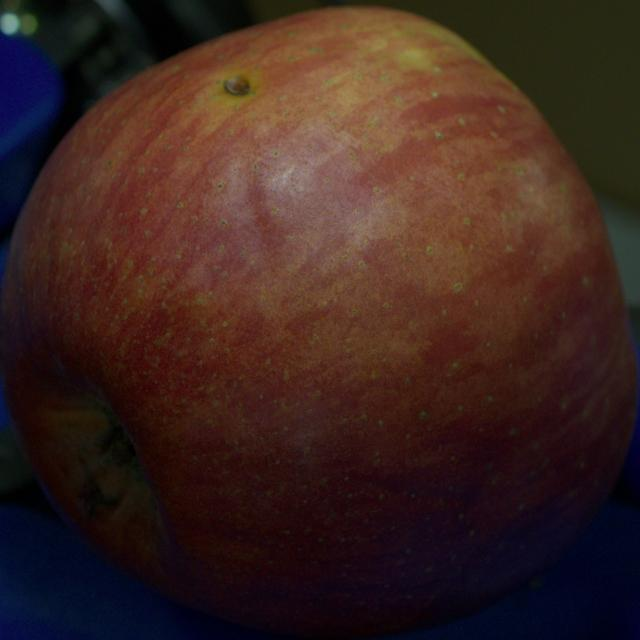apple: (0, 7, 636, 639)
bruise: (81, 477, 116, 514)
pest: (224, 74, 250, 95)
